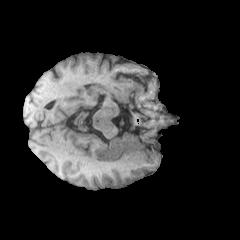glioma: (91, 133, 145, 165)
